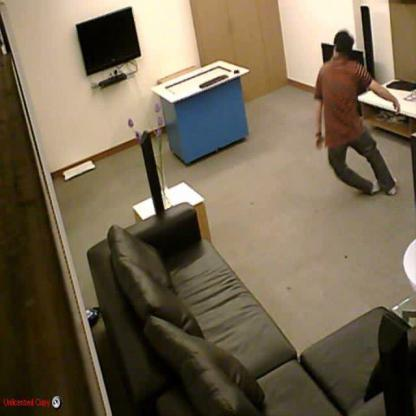Person: (314, 31, 402, 195)
